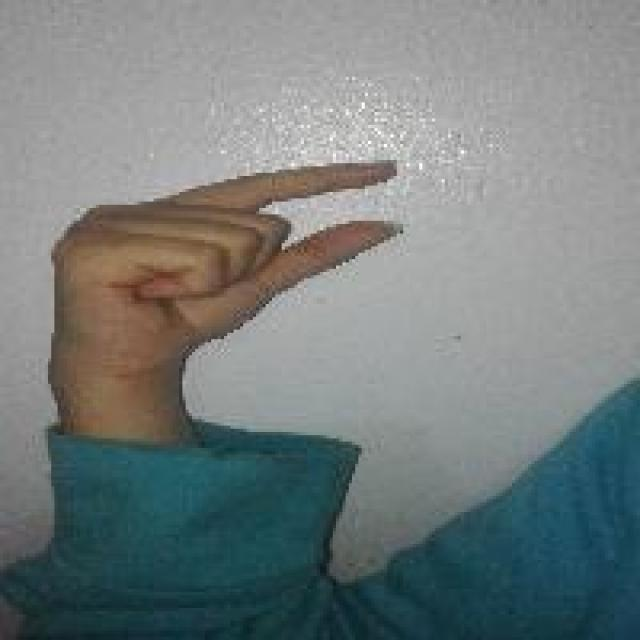G: (32, 156, 413, 378)
